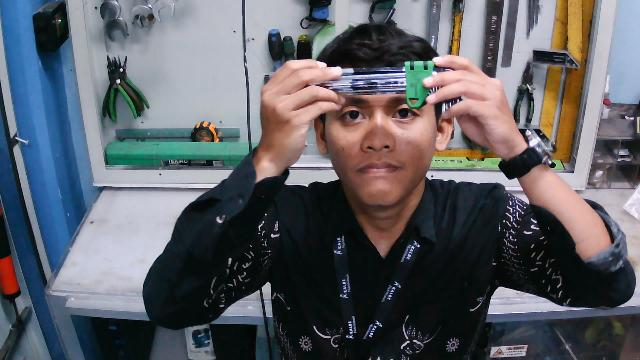kunci_l: (258, 59, 472, 117)
